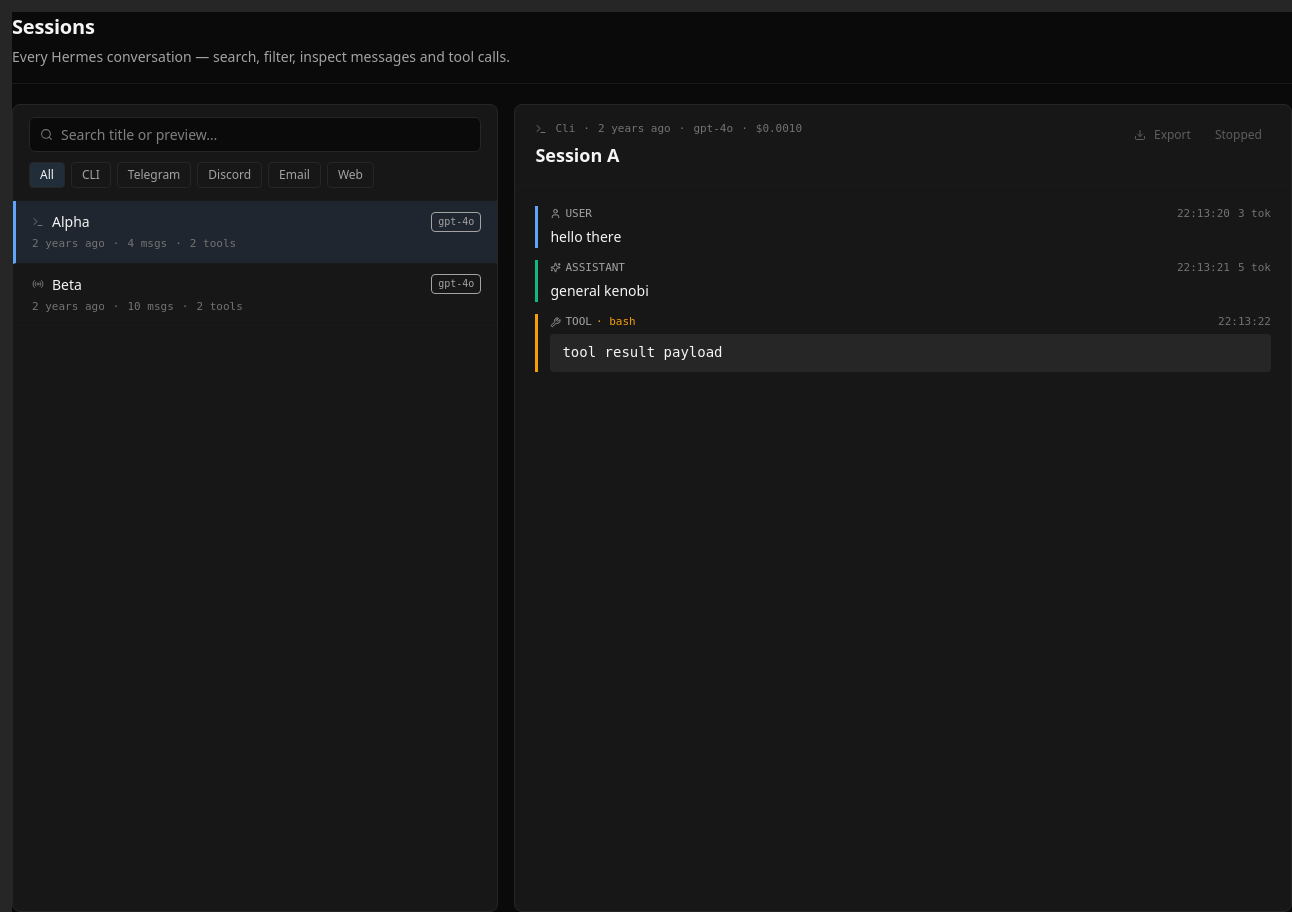
SessionsPage (split-pane) › clicking a second session swaps the right pane to that session’s messages
Expected: the text "hello there" is shown, [550, 227, 621, 246]
Note: Click the Beta row and verify its messages appear (and Alpha's go away).
Click the text "Beta": [67, 284] box [52, 274, 82, 294]
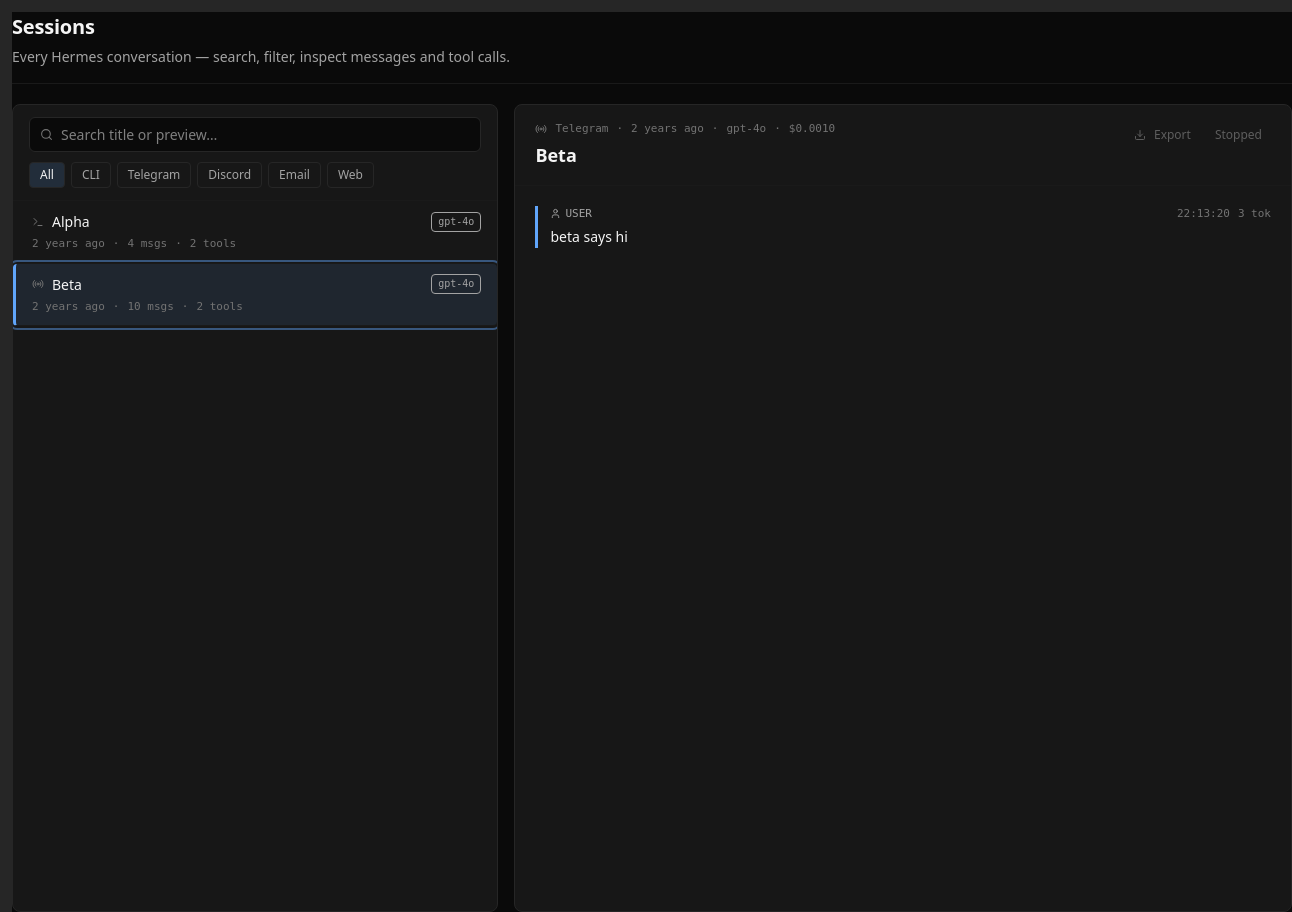
Expected: the text "beta says hi" is shown, [550, 227, 628, 246]
Expected: the text "hello there" is gone
